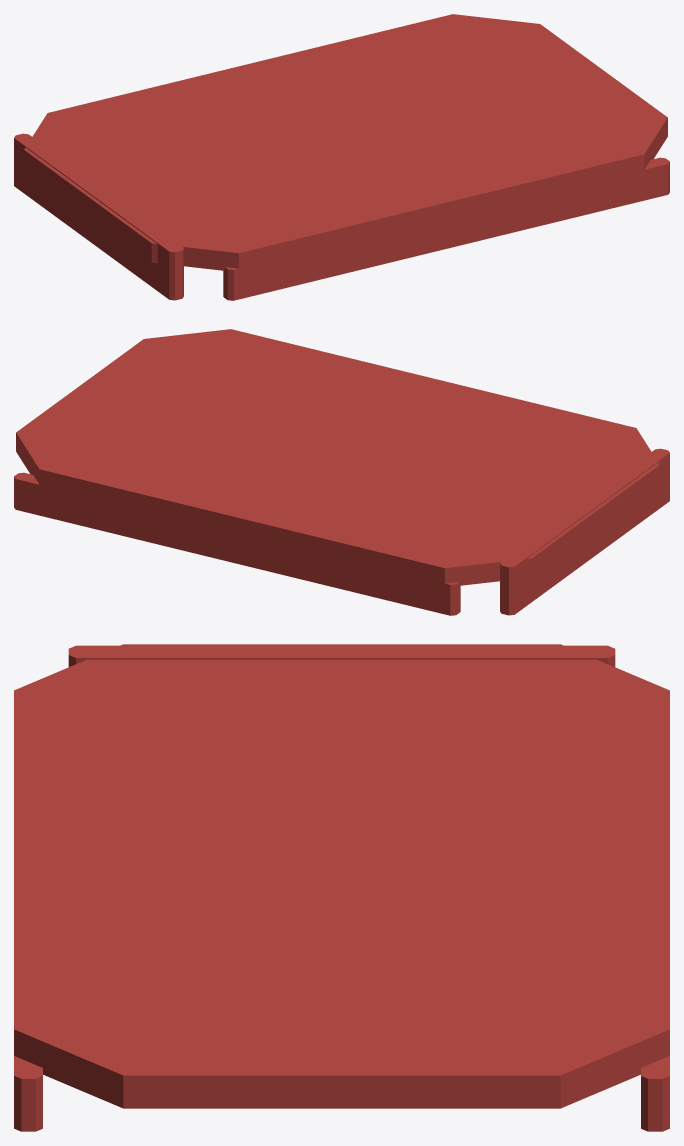
File: tidy_tray_lod2.glb
3 views of the same model, one above another, from view 1: azimuth 30°, elevation 25°; view 2: azimuth 150°, elevation 25°; view 3: azimuth 270°, elevation 25° (orthographic). The views are drawn at different scales.
Visible parts, largest first — view 1: tidy_tray_lod2; view 2: tidy_tray_lod2; view 3: tidy_tray_lod2.
Part boxes in pixels (x1,y1,x2,y2): tidy_tray_lod2: [14, 14, 669, 300]; tidy_tray_lod2: [14, 329, 669, 615]; tidy_tray_lod2: [14, 644, 669, 1131].
Size of the model in its own units: 0.28 by 0.025 by 0.18.
